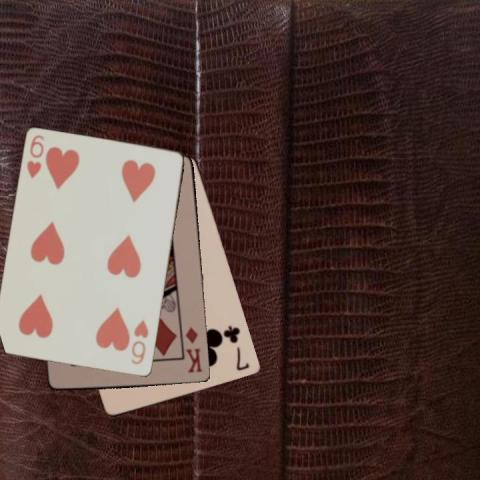6h: (24, 132, 46, 180), (129, 317, 150, 367)
7c: (222, 323, 251, 372)
Kd: (183, 323, 204, 375)
